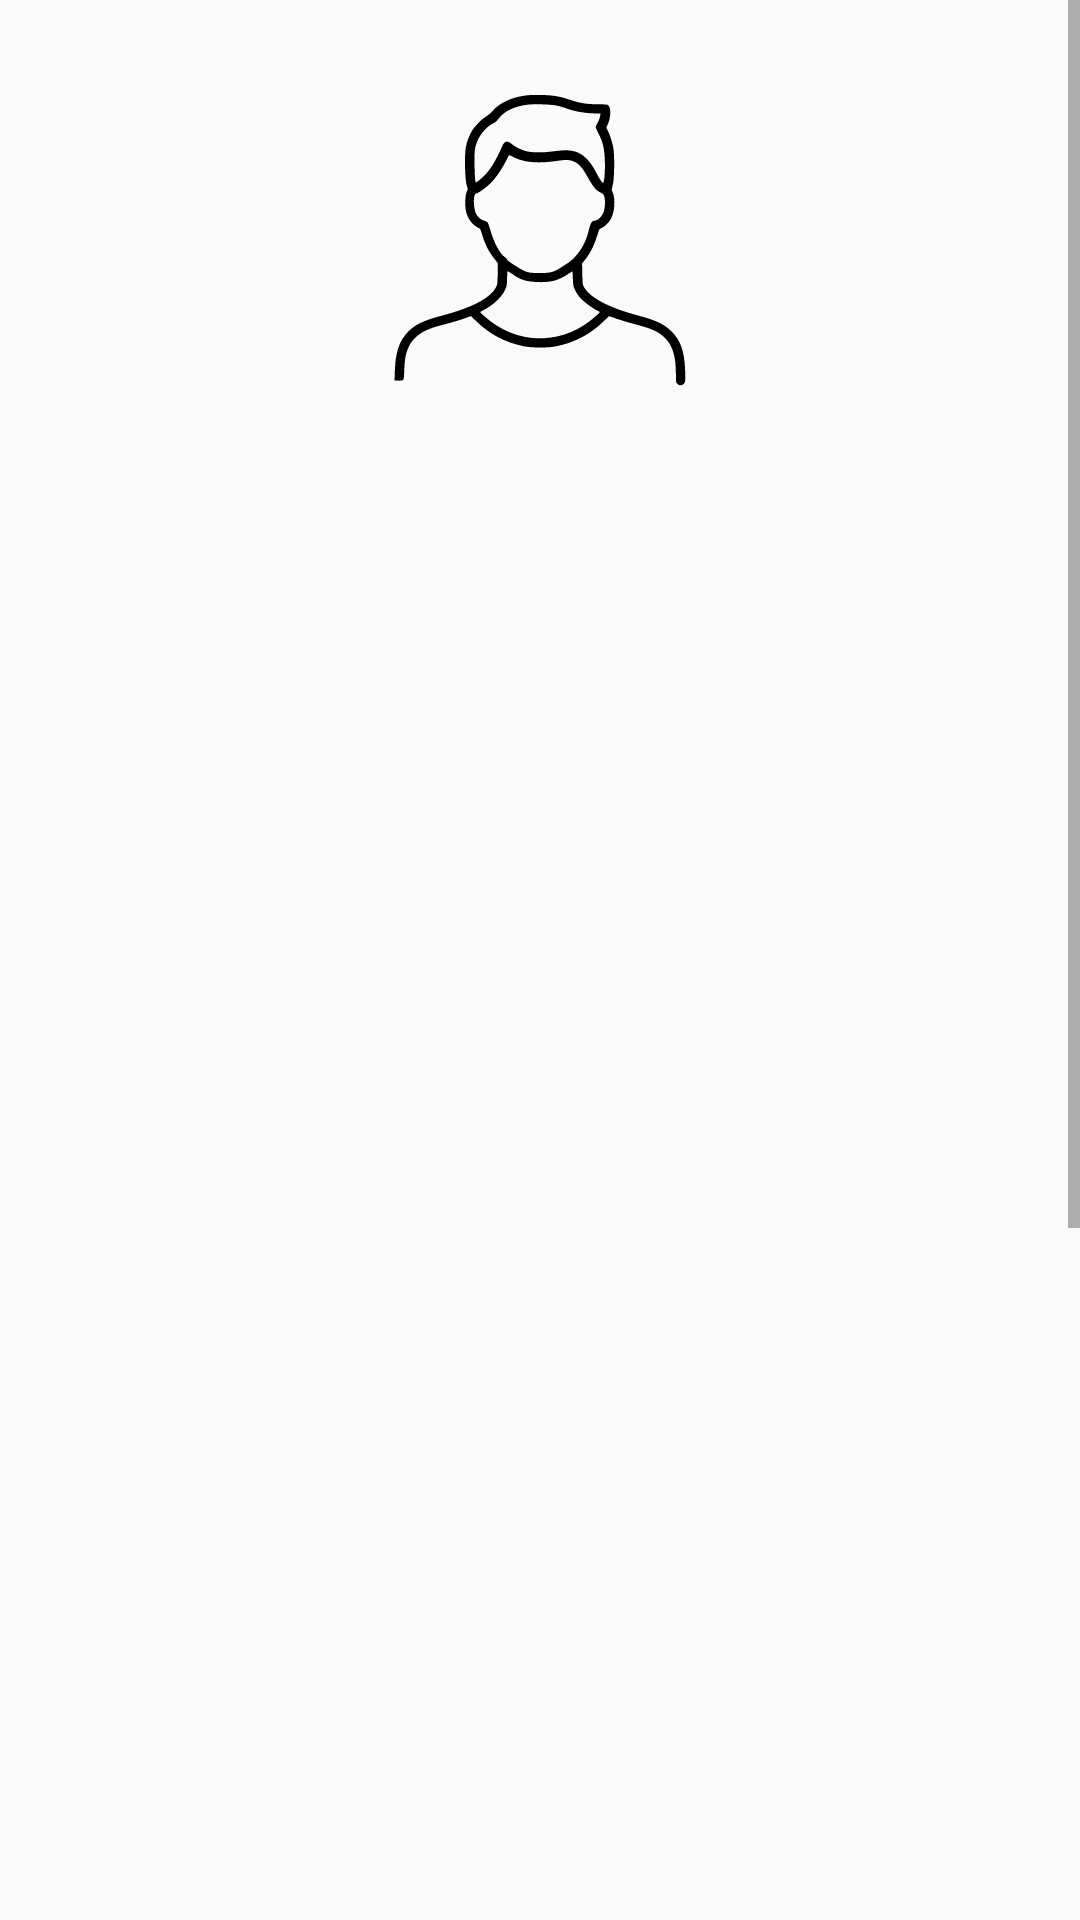

Named icons in this screenshot (1080w x 1920h) and their bounding boxes, rect(x1, y1, x2, y2):
profile man: rect(394, 95, 686, 386)
